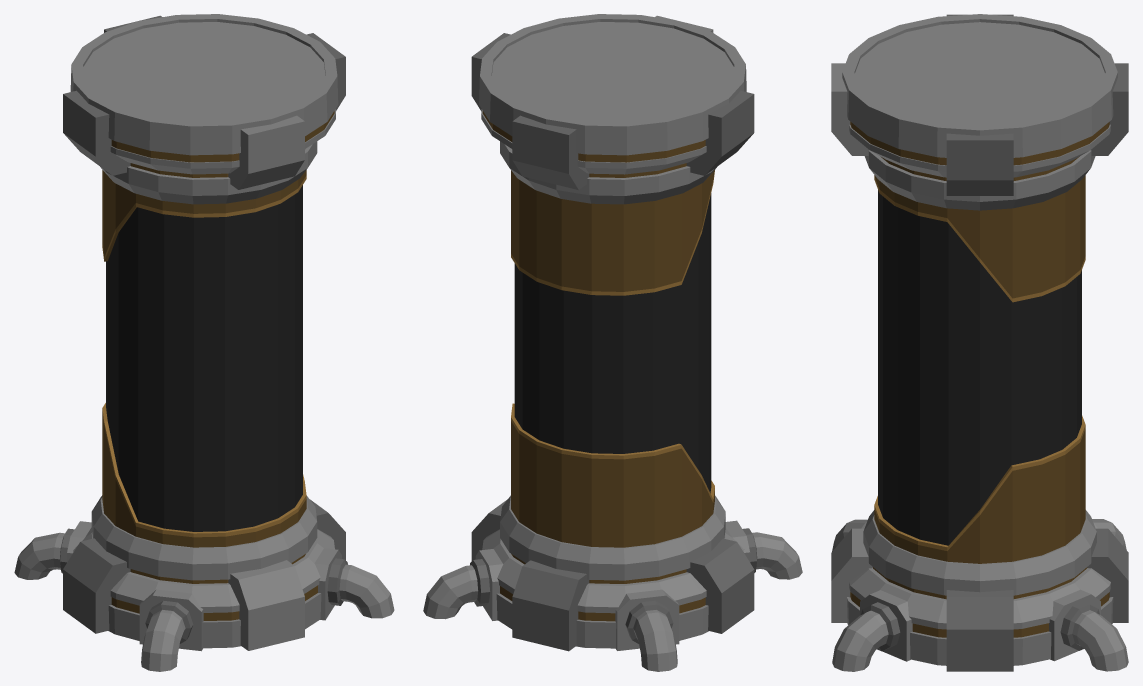
File: pod.glb
3 renders of one model, left to right at view 1: azimuth 30°, elevation 25°; view 2: azimuth 150°, elevation 25°; view 3: azimuth 270°, elevation 25°, orthographic. The views are drawn at different scales.
Parts seen in each view (by area): view 1: pod; view 2: pod; view 3: pod.
Boxes of the visible parts, x1=… form: pod: x1=14, y1=14, x2=394, y2=671; pod: x1=423, y1=14, x2=802, y2=671; pod: x1=831, y1=14, x2=1128, y2=671.
Bounding box in the file's own units: 0.9019 × 1.8 × 0.9019.
